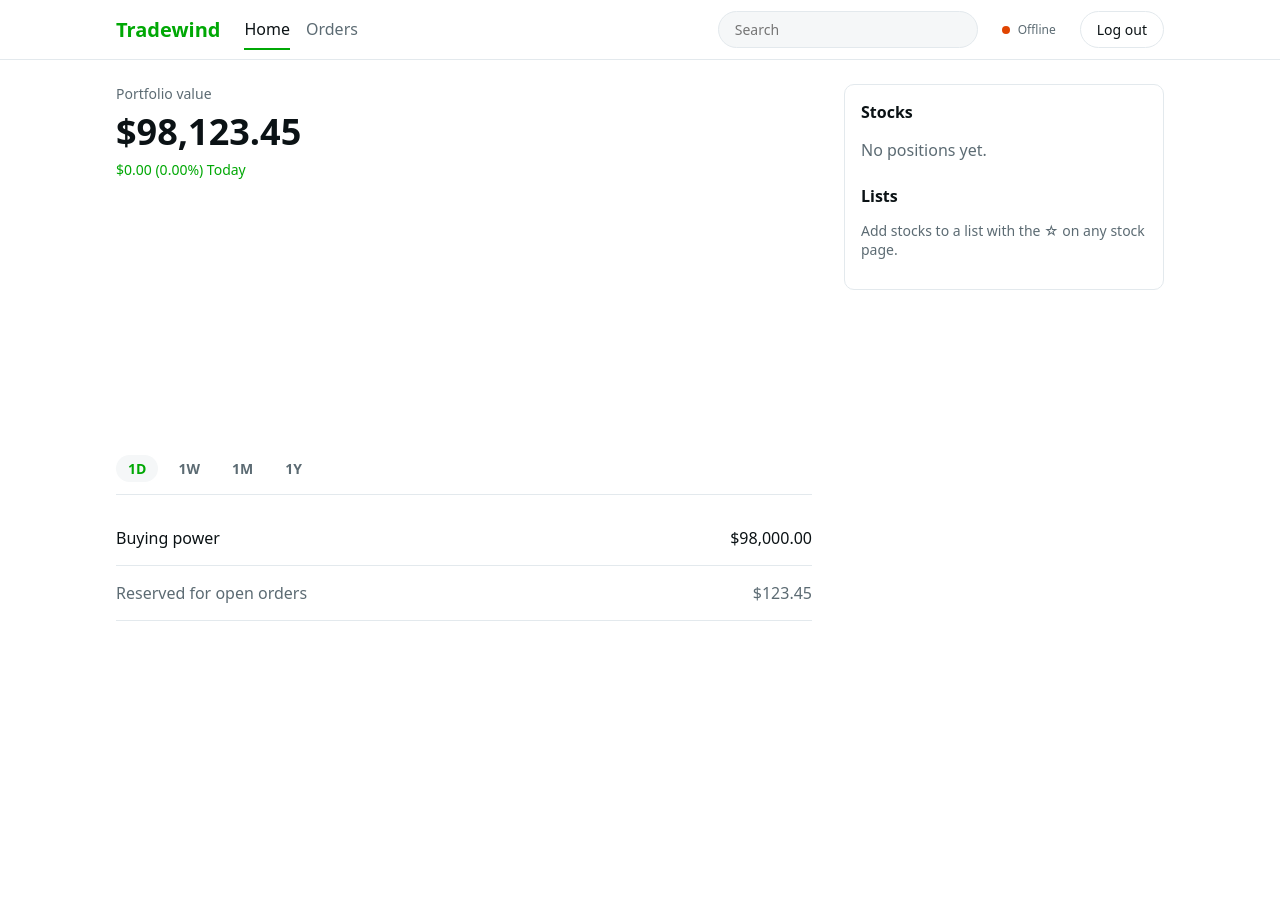
Test case: sign-in flow › logs out: revokes the cookie server-side and returns to login
Expected: the text "$98,123.45" is shown, [116,107,301,156]
Click the button "Log out": (1122, 30) [1080,11,1164,48]
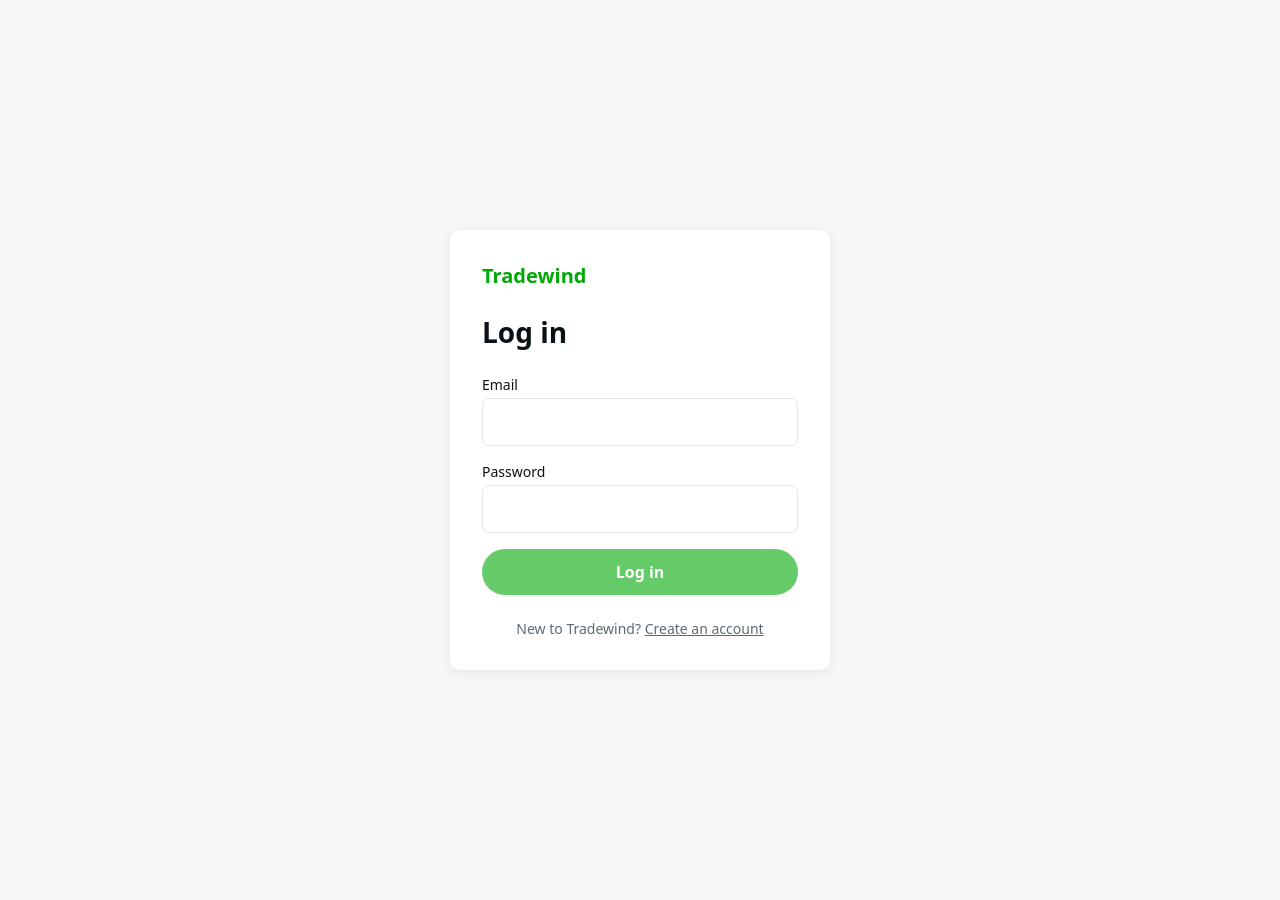
Result: the heading "Log in" is shown at [482,313,567,351]
